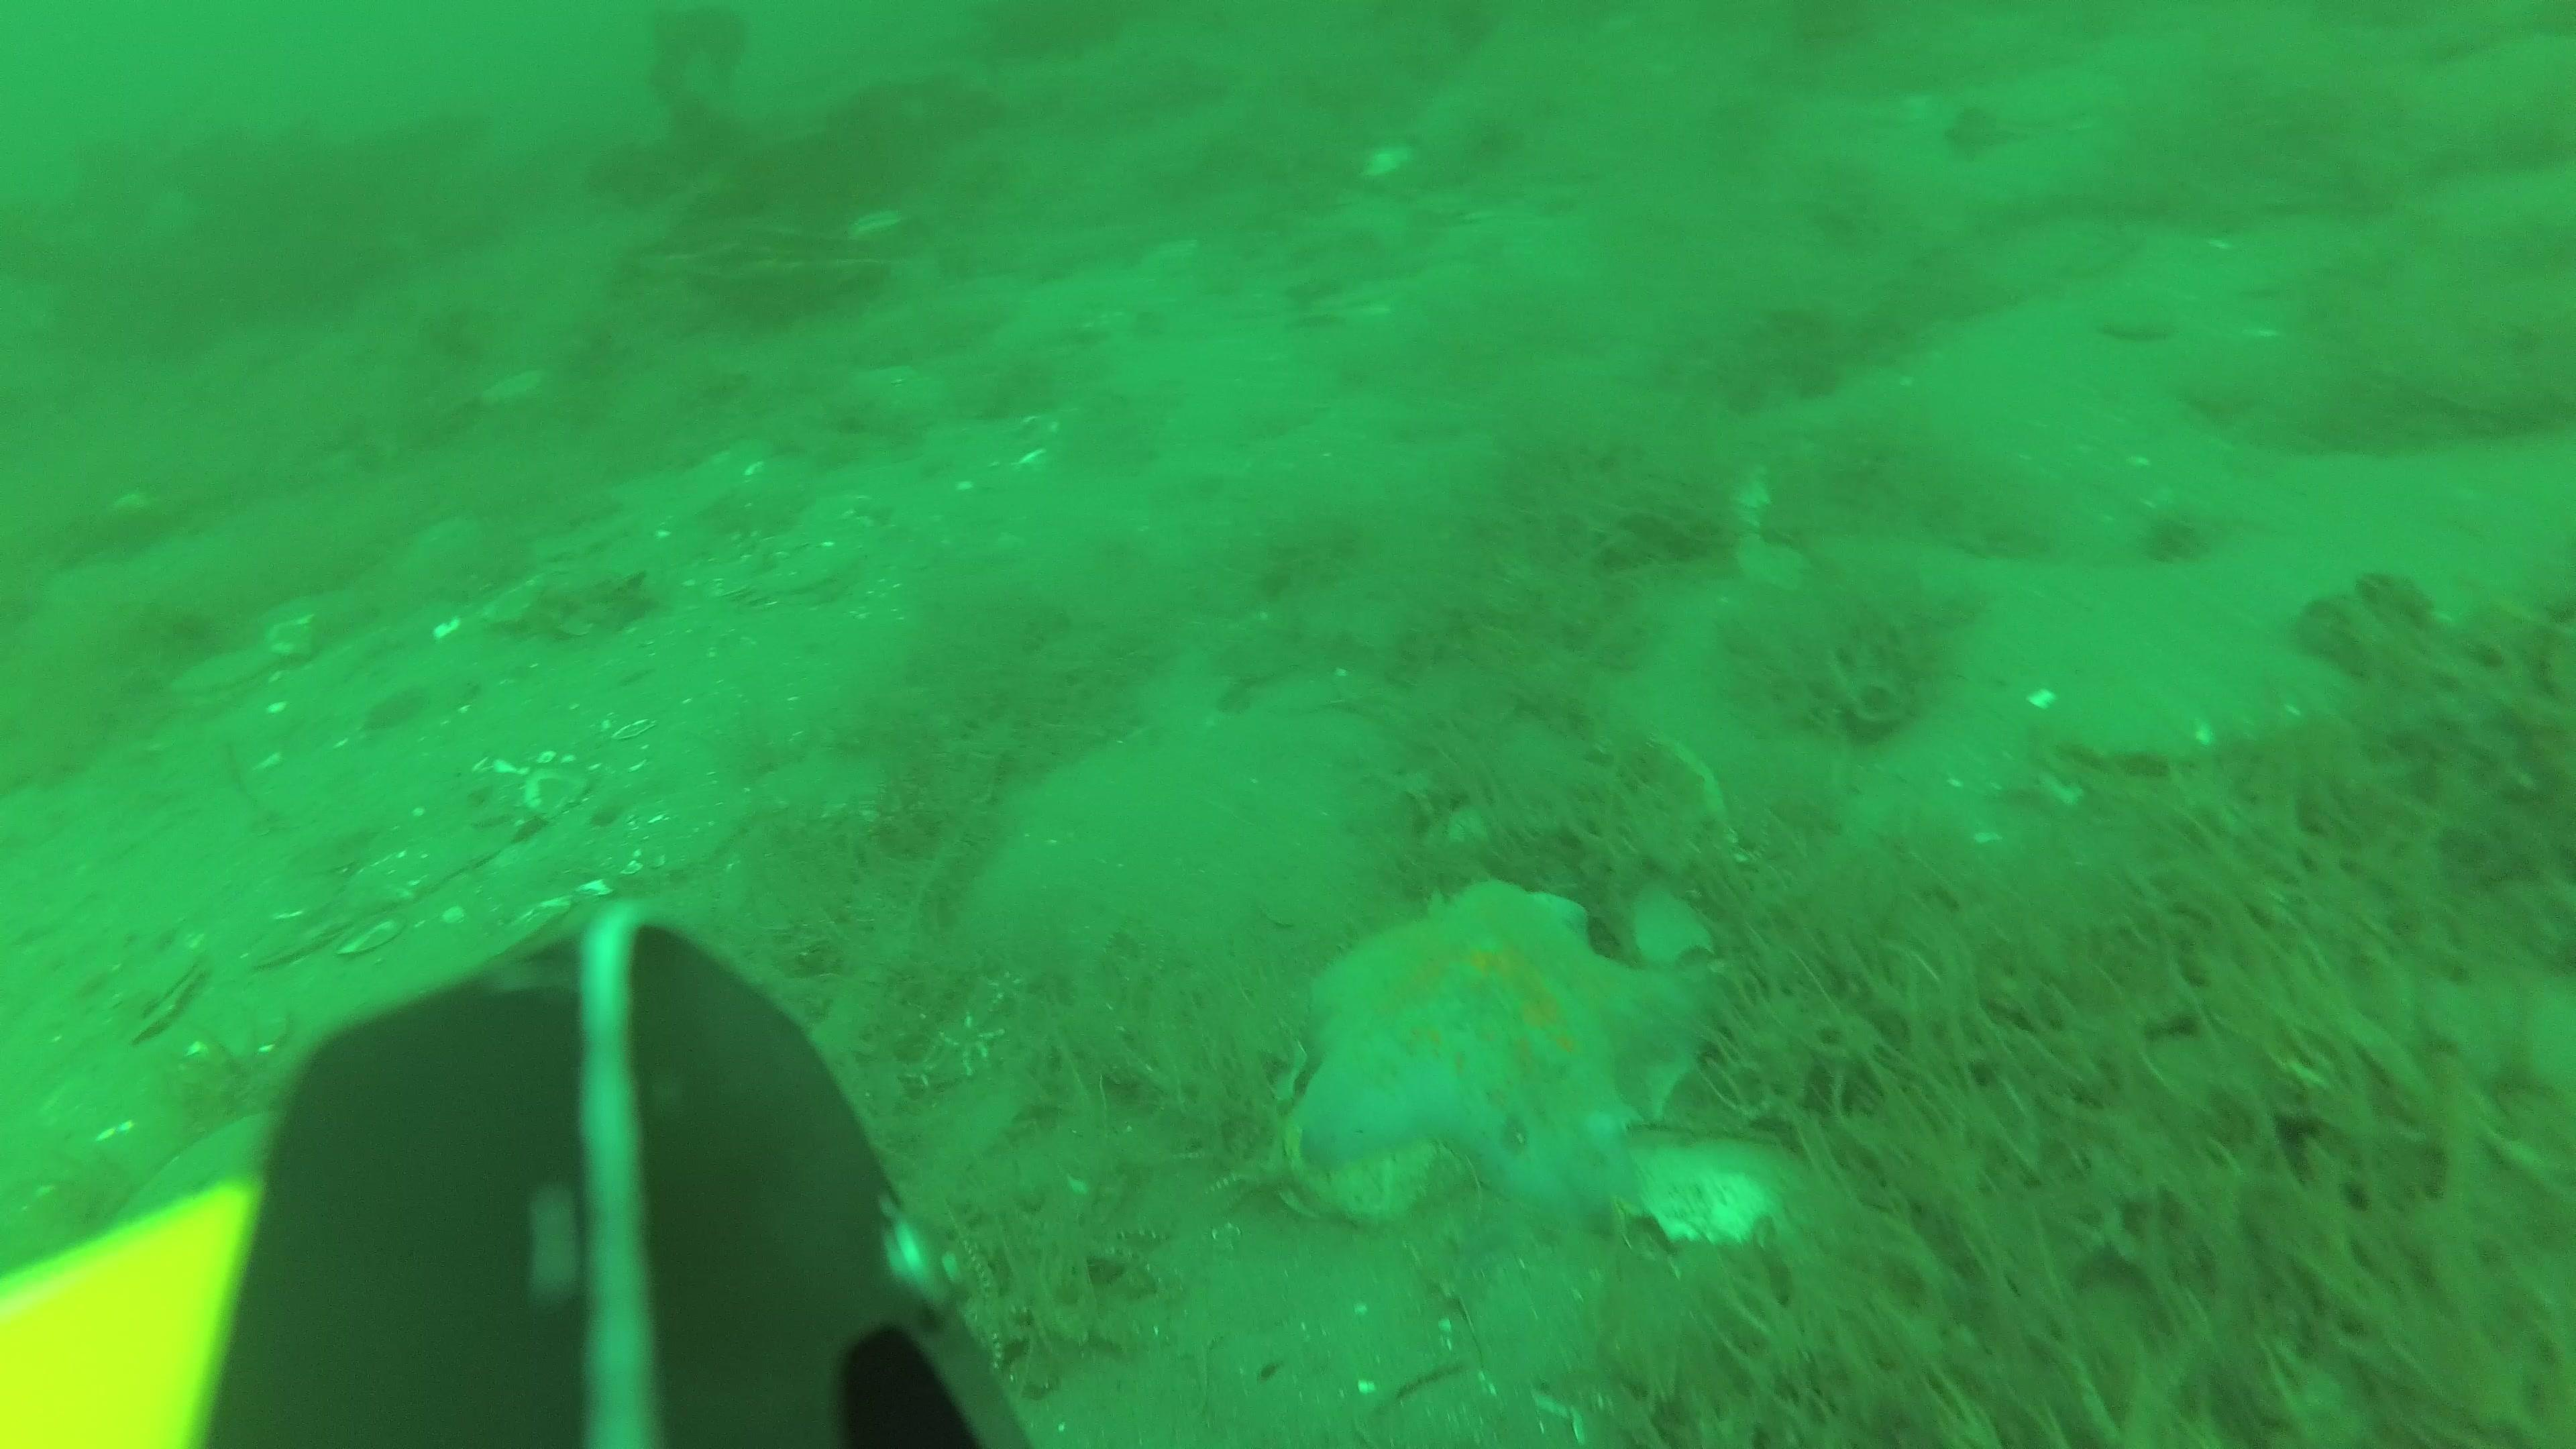scallop: (133, 947, 196, 1044), (166, 649, 280, 697), (244, 915, 334, 970)
starfish: (1297, 881, 1688, 1215)
